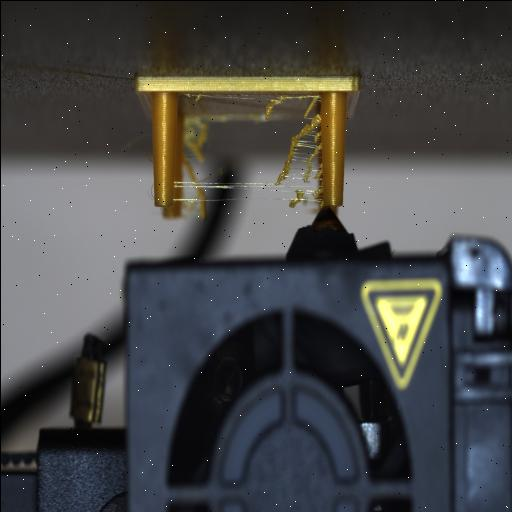stringing: (177, 94, 330, 208)
